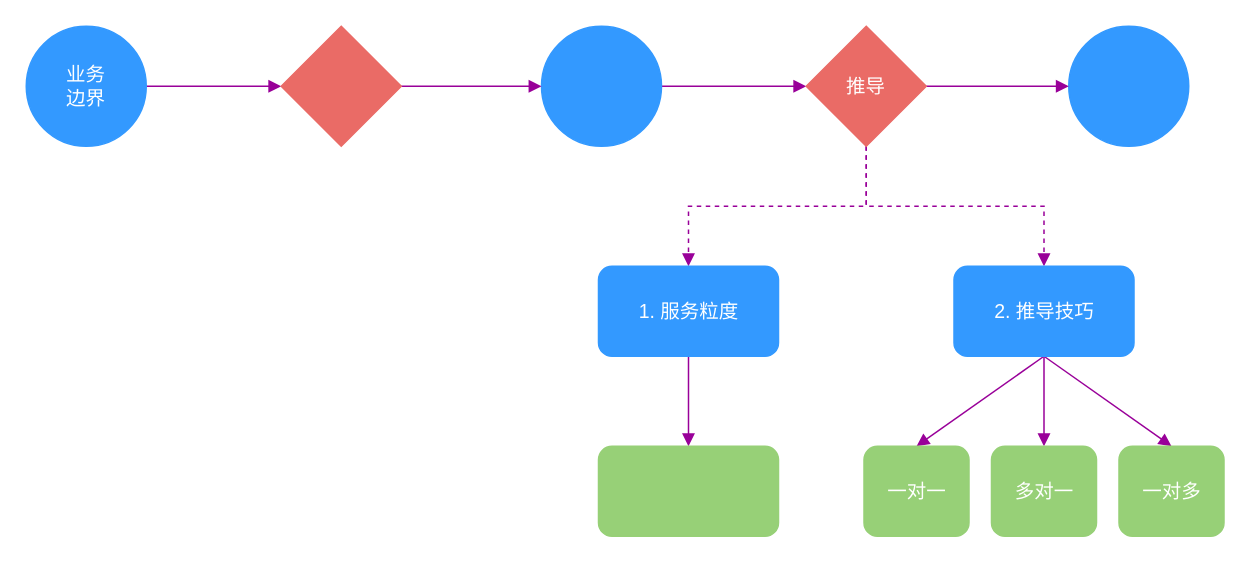
The diagram is 1251 pixels wide and 563 high, and some of its shapes have lost their labels. Each missing label, with the box of its shape:
三个火枪手原则: (597, 445, 778, 536)
微服务: (1067, 25, 1189, 146)
映射: (280, 25, 401, 146)
领域: (540, 25, 662, 146)
